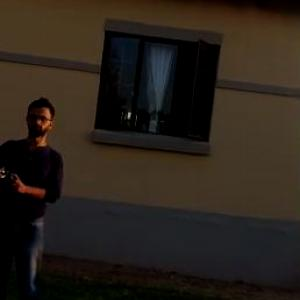follow: (0, 89, 71, 299)
